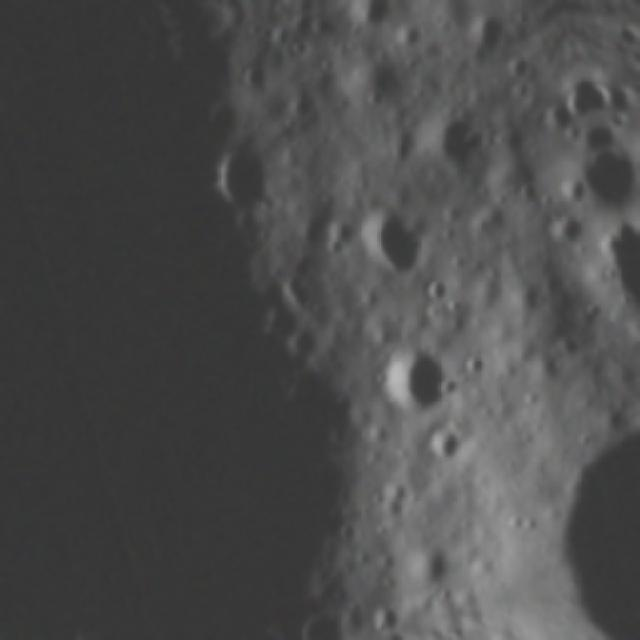crater: (340, 200, 445, 292), (195, 133, 292, 229), (372, 336, 465, 430), (410, 99, 505, 186), (556, 141, 622, 225), (529, 205, 593, 262), (419, 414, 478, 472), (283, 601, 359, 640), (536, 99, 584, 150), (554, 64, 594, 125), (232, 54, 277, 100), (364, 592, 408, 638), (346, 0, 398, 35), (521, 0, 568, 34), (348, 629, 386, 640)
